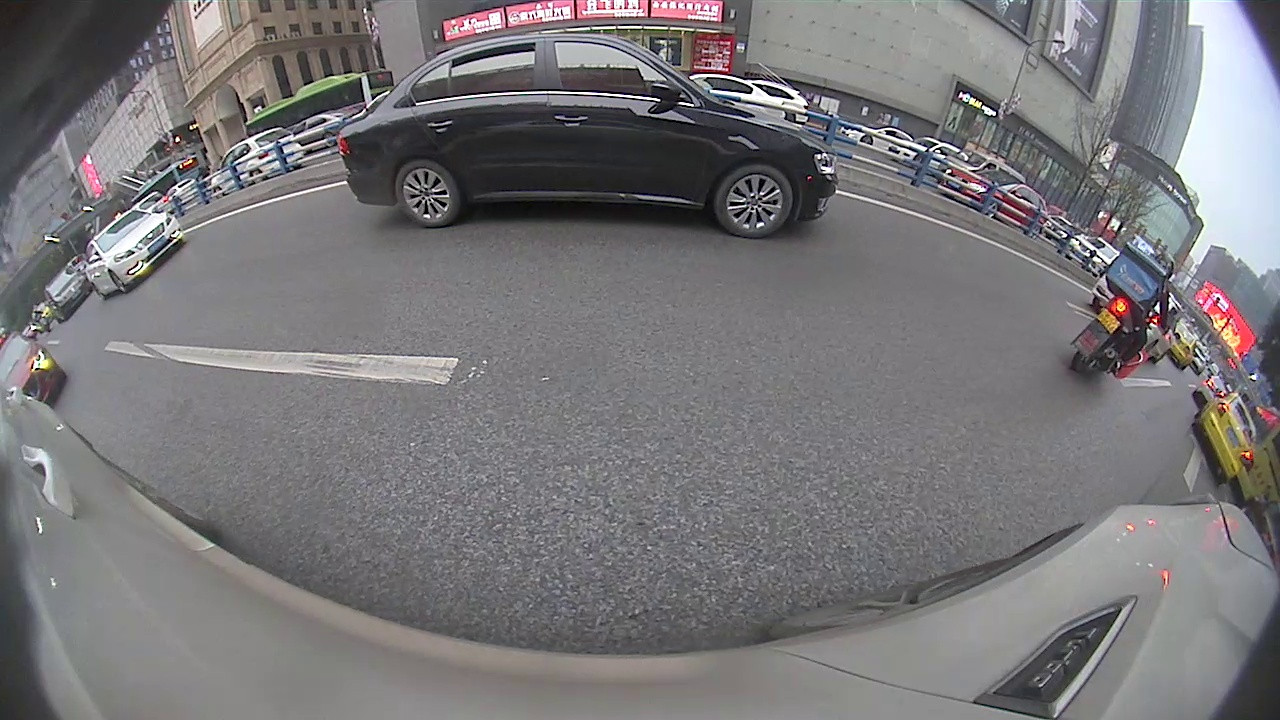car: (333, 32, 838, 240), (82, 206, 189, 302)
front: (716, 164, 794, 237)
rear: (394, 159, 460, 232)
rider: (1066, 231, 1178, 381)
